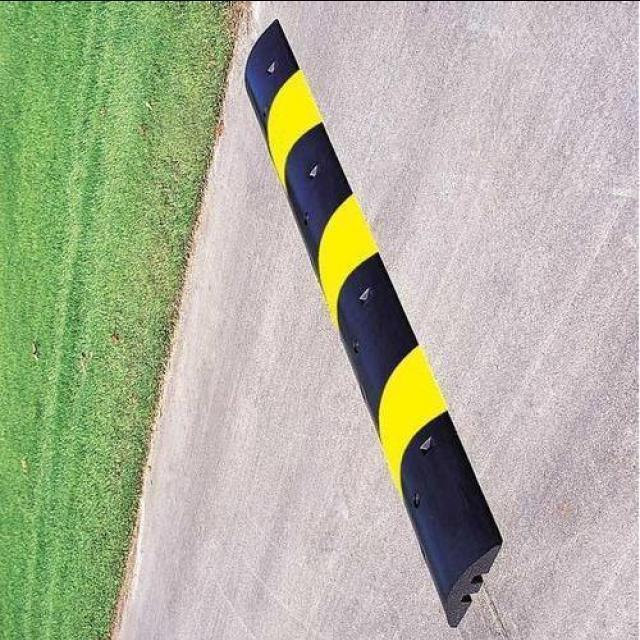speedbreaker: (230, 20, 510, 640)
